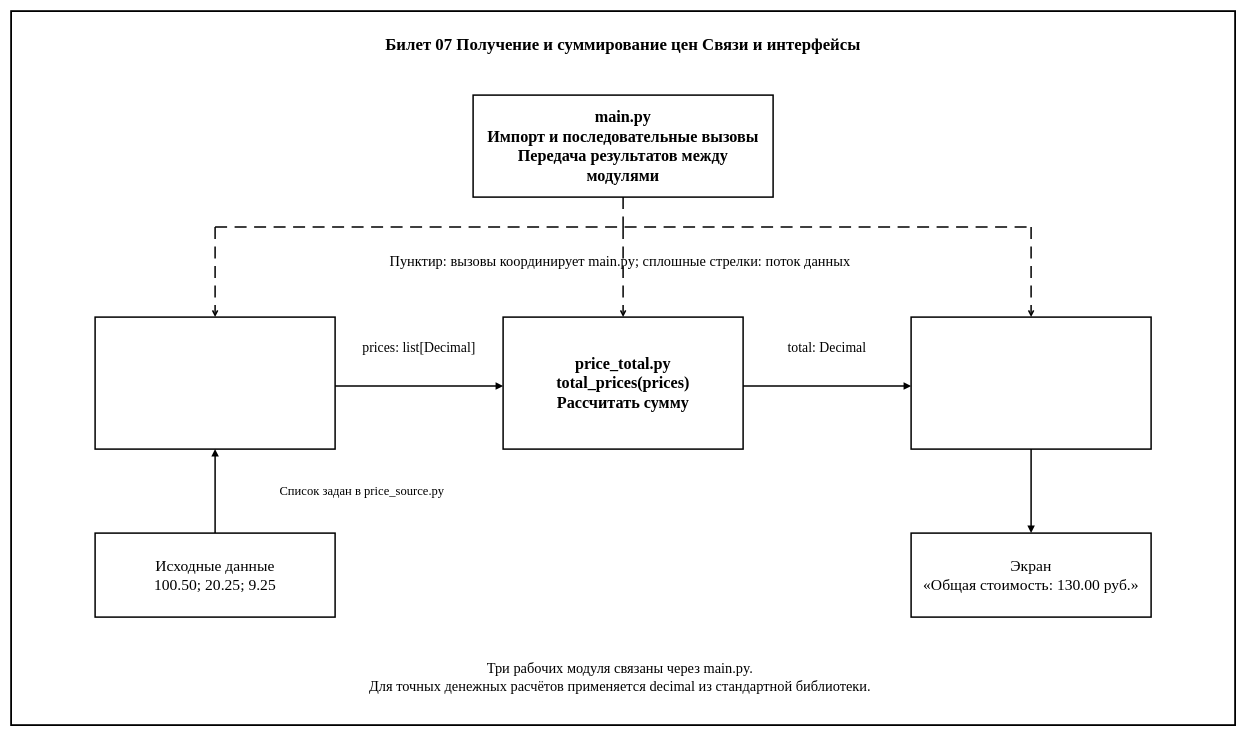
Some shapes in this 1246 by 736 pixel diagram are drawn without their labels. The shapes that lost their labels are listed below. From the top down, each one's centre as x and y in pixels, then its label:
the point at 215,383: price_source.py get_prices() Получить цены
the point at 1031,383: price_output.py format_total(total) Оформить вывод
